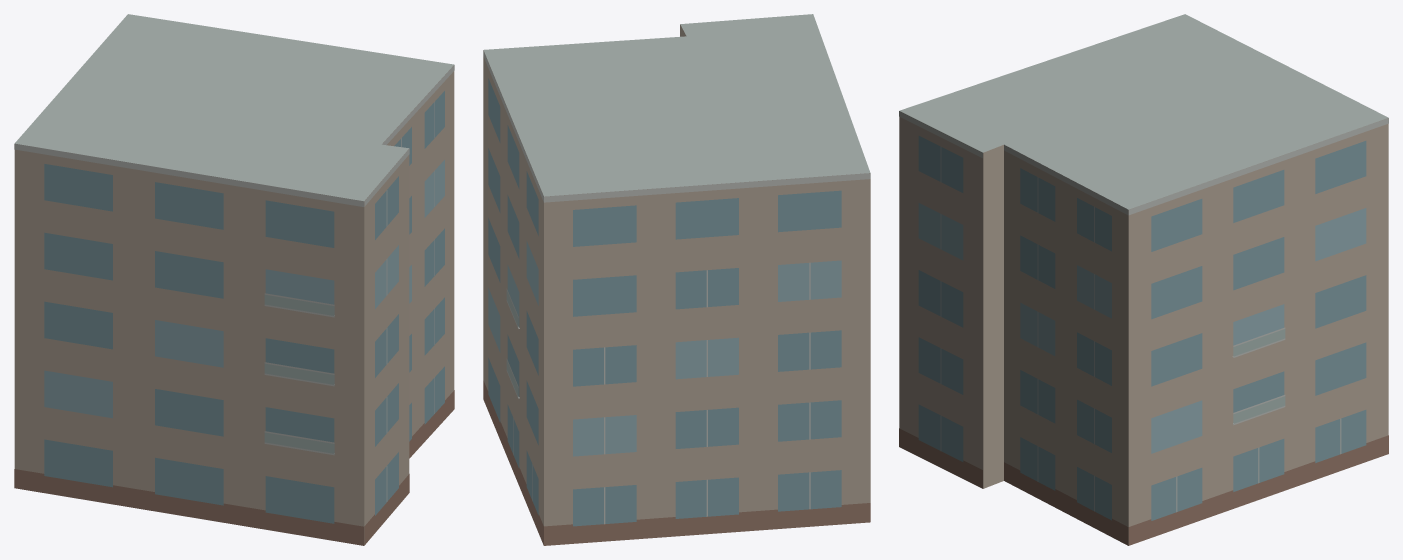
File: survey-upis-32745081.glb
3 views of the same model, side by side, from view 1: azimuth 30°, elevation 25°; view 2: azimuth 150°, elevation 25°; view 3: azimuth 270°, elevation 25° (orthographic). The views are drawn at different scales.
Parts seen in each view (by area): view 1: survey-upis-32745081.tmp; view 2: survey-upis-32745081.tmp; view 3: survey-upis-32745081.tmp.
Part boxes in pixels (bbox=[...]): survey-upis-32745081.tmp: bbox=[14, 14, 454, 545]; survey-upis-32745081.tmp: bbox=[483, 14, 870, 545]; survey-upis-32745081.tmp: bbox=[899, 14, 1388, 545].
Bounding box in the file's own units: 17.61 × 14.1 × 18.62.
